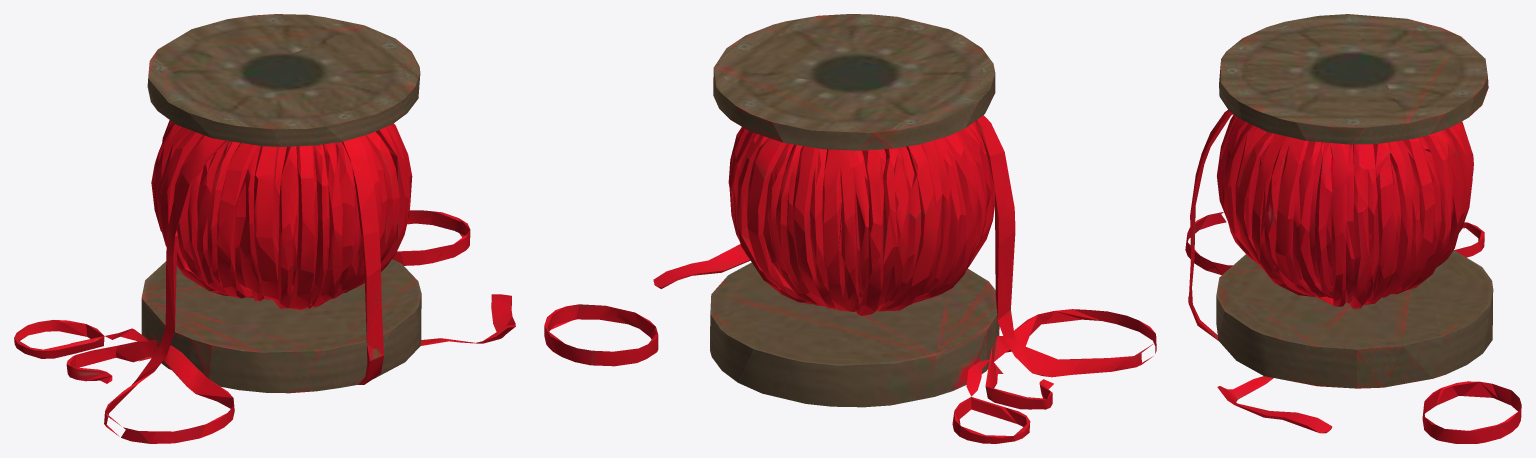
The model's file is spool.glb.
The picture shows the model from 3 angles, left to right: view 1: azimuth 30°, elevation 25°; view 2: azimuth 150°, elevation 25°; view 3: azimuth 270°, elevation 25°; orthographic projection. The views are drawn at different scales.
Size of the model in its own units: 1.9 by 1.04 by 1.2.
1 material, 1 textured.
